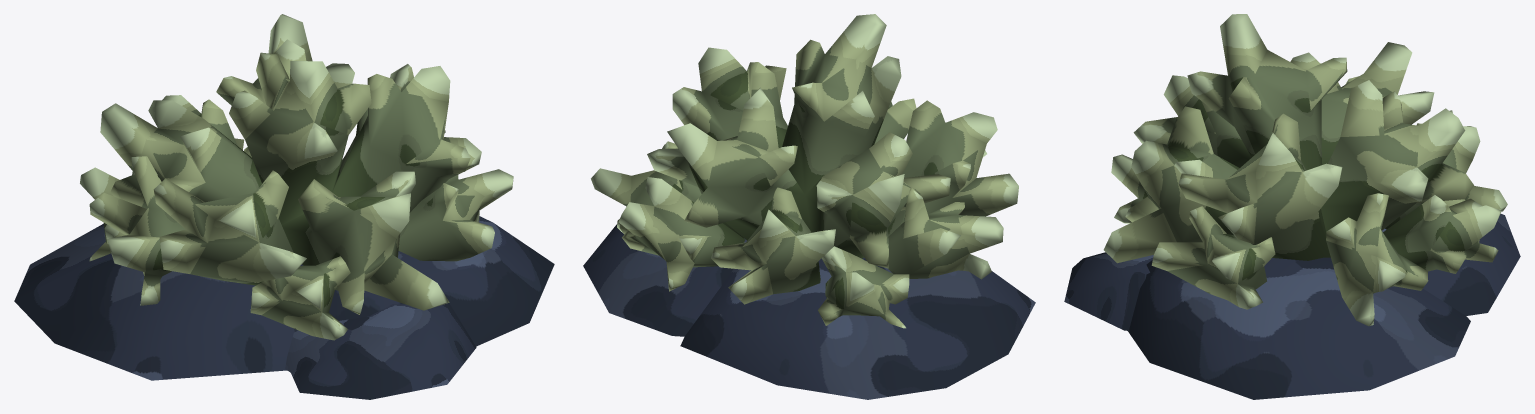
File: Clubbed Finger Coral 3_preview_3DS_simplified.glb
3 views of the same model, side by side, from view 1: azimuth 30°, elevation 25°; view 2: azimuth 150°, elevation 25°; view 3: azimuth 270°, elevation 25° (orthographic). The views are drawn at different scales.
Parts seen in each view (by area): view 1: Marine Park Empire model; view 2: Marine Park Empire model; view 3: Marine Park Empire model.
Boxes of the visible parts, x1,y1,x2,y2 form: Marine Park Empire model: (14,14,554,399); Marine Park Empire model: (583,14,1035,399); Marine Park Empire model: (1064,14,1520,399).
Bounding box in the file's own units: 114 × 65.19 × 102.
Materials: 2 (2 with a texture image).
